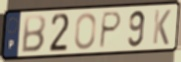2: (48, 12, 71, 54)
9: (127, 10, 145, 48)
B: (20, 14, 48, 54)
K: (151, 9, 173, 47)
O: (73, 12, 97, 52)
P: (97, 10, 123, 50)
